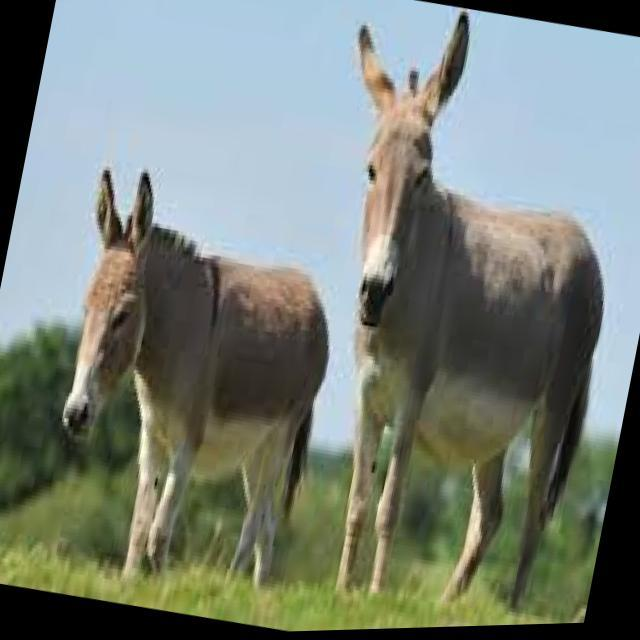Donkey: (249, 0, 640, 634), (21, 154, 357, 600)
